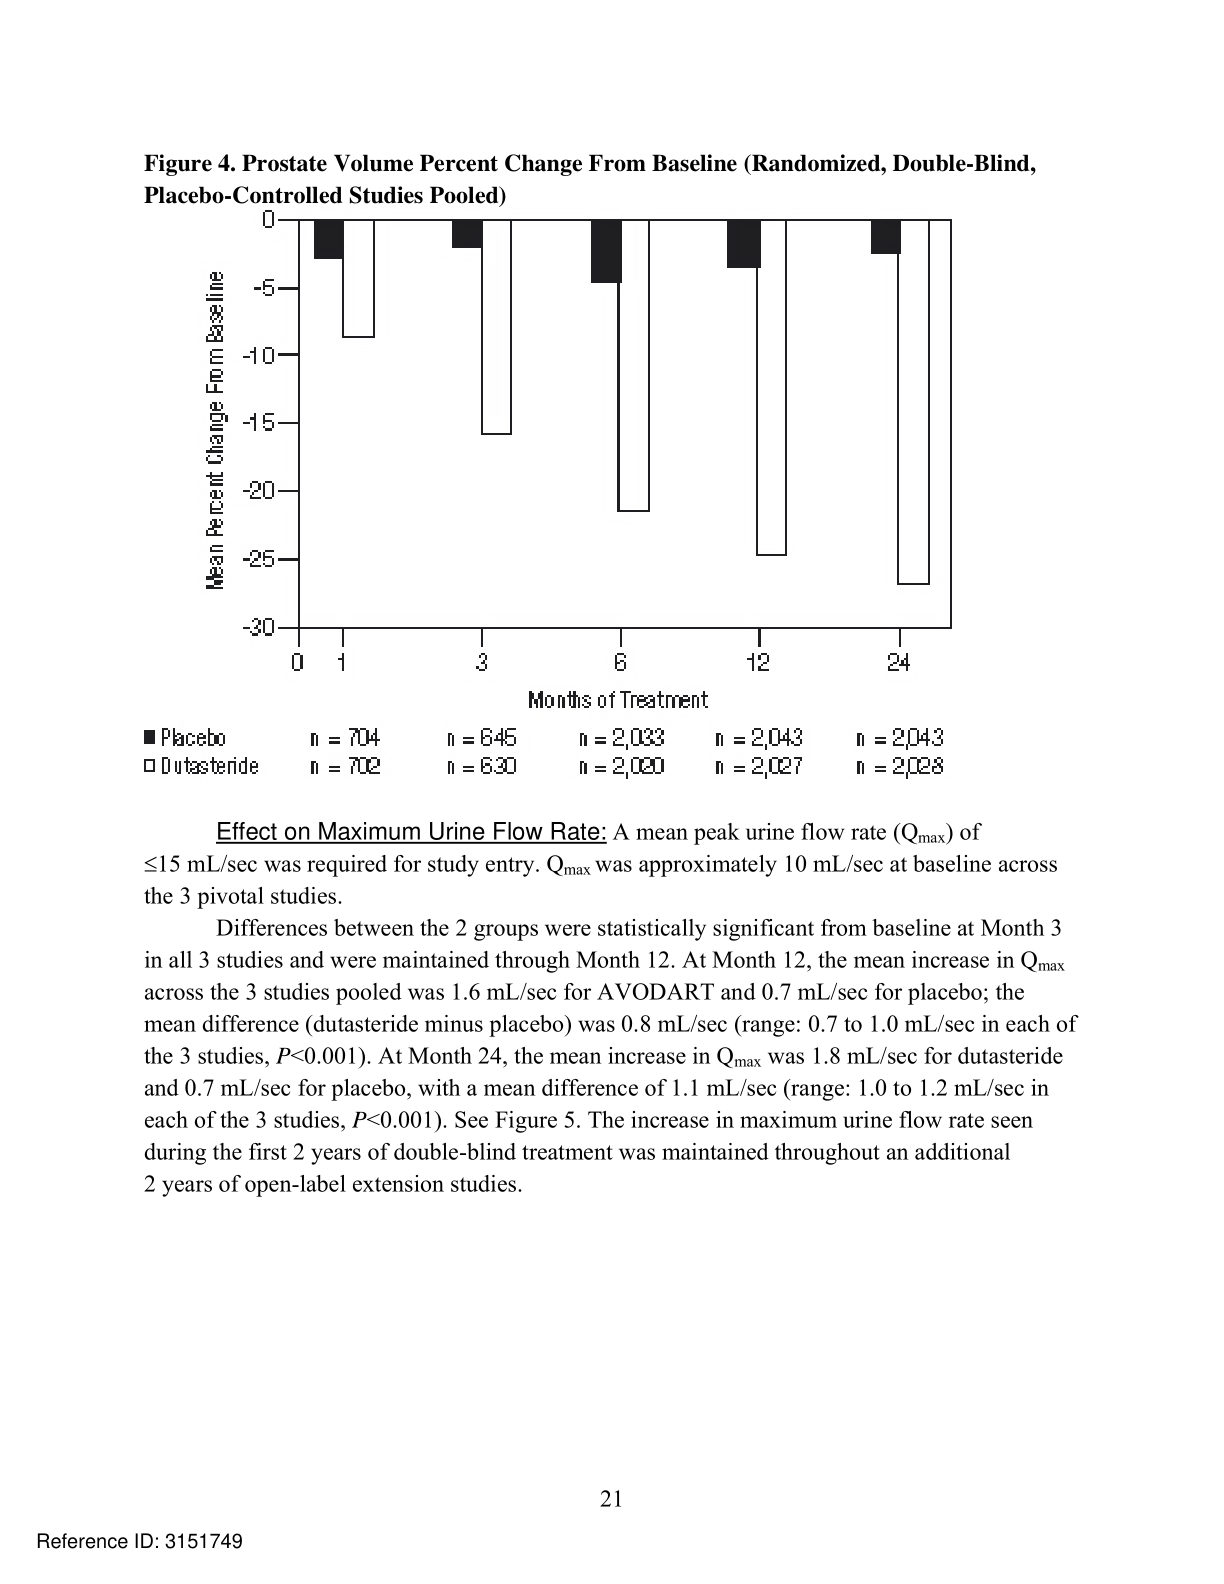nolines: (139, 724, 948, 778)
